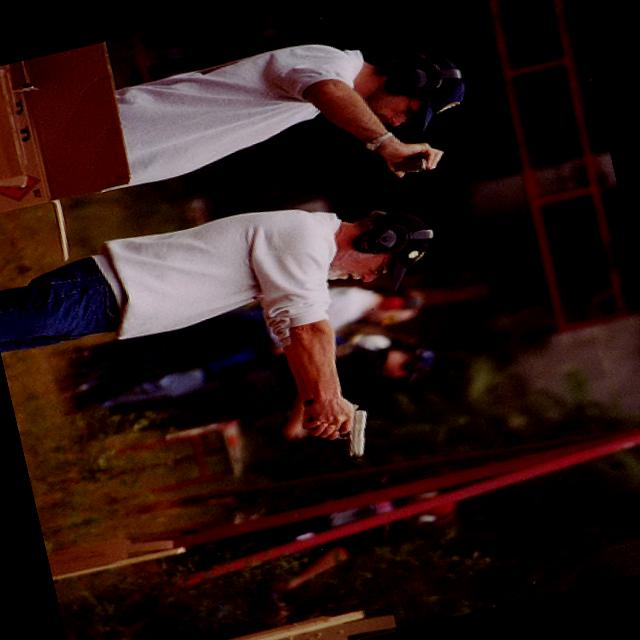handgun: (302, 396, 379, 468)
